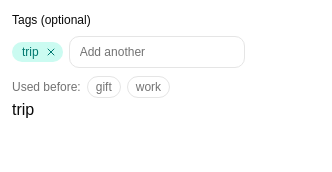
it: TagInput › offers tags used before, skipping the ones already applied
The image size is (332, 172).
Click the button "gift" at (104, 87), box x1=87 y1=76 x2=121 y2=98
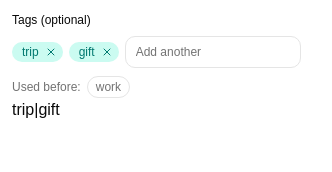
Check: the text with test id "tags" reads "trip|gift", box x1=12 y1=101 x2=60 y2=118
